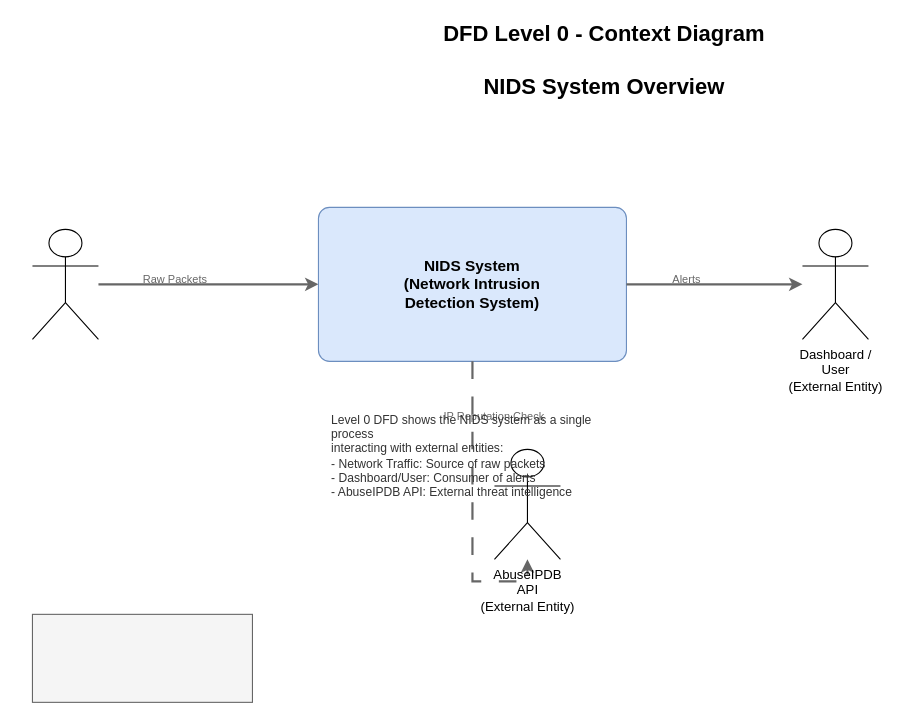
Image size: 901x722. Some labels were removed from this diagram. Each missing label, with the centre of its shape:
Legend: □ External Entity - Systems outside NIDS ▭ Process - NIDS System: (x=141, y=657)
Network Traffic (External Entity): (x=64, y=283)
